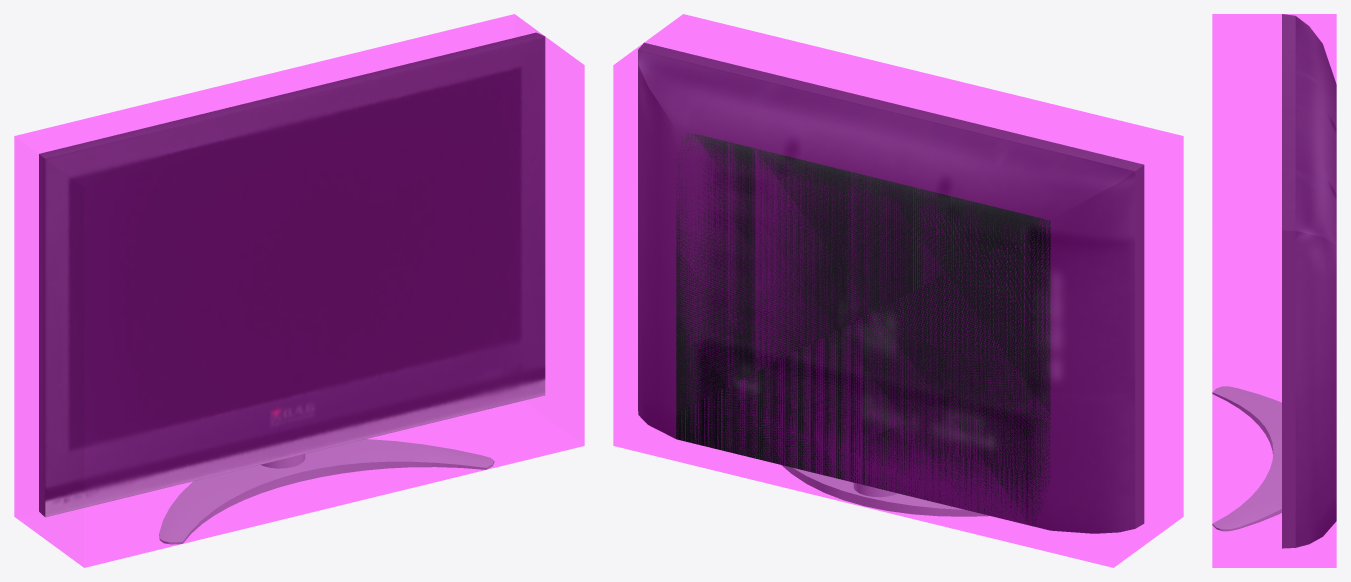
The picture shows the model from 3 angles, left to right: view 1: azimuth 30°, elevation 25°; view 2: azimuth 150°, elevation 25°; view 3: azimuth 270°, elevation 25°; orthographic projection. The views are drawn at different scales.
Visible parts, largest first — view 1: boundingbox, TV_on; view 2: TV_on, boundingbox; view 3: boundingbox, TV_on.
Part boxes in pixels (x1,y1,x2,y2): boundingbox: [14, 14, 584, 567]; TV_on: [39, 32, 545, 544]; TV_on: [638, 42, 1144, 533]; boundingbox: [613, 14, 1183, 567]; boundingbox: [1212, 14, 1336, 567]; TV_on: [1212, 14, 1336, 548].
Bounding box in the file's own units: 102 × 74.17 × 24.7.
Materials: 3 (2 with a texture image).
